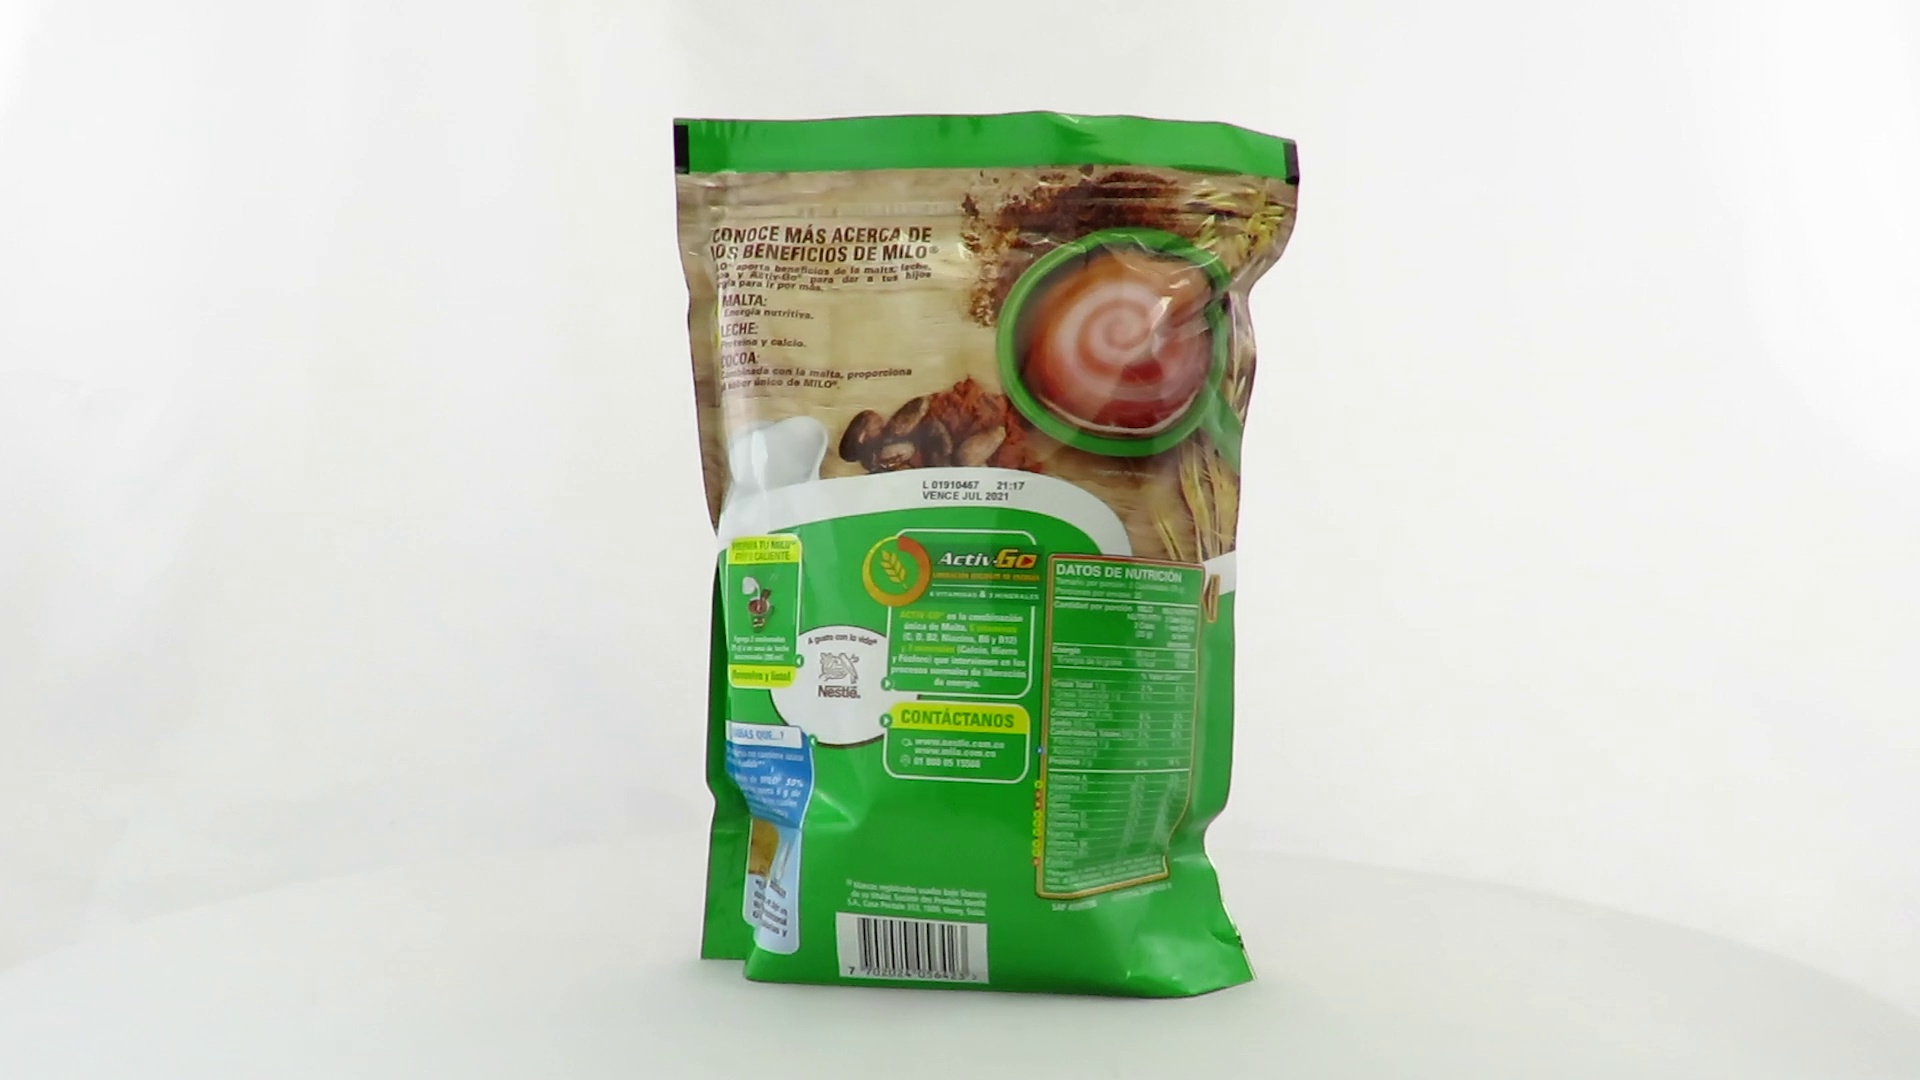COL0170205DYP50000: (669, 105, 1305, 1006)
